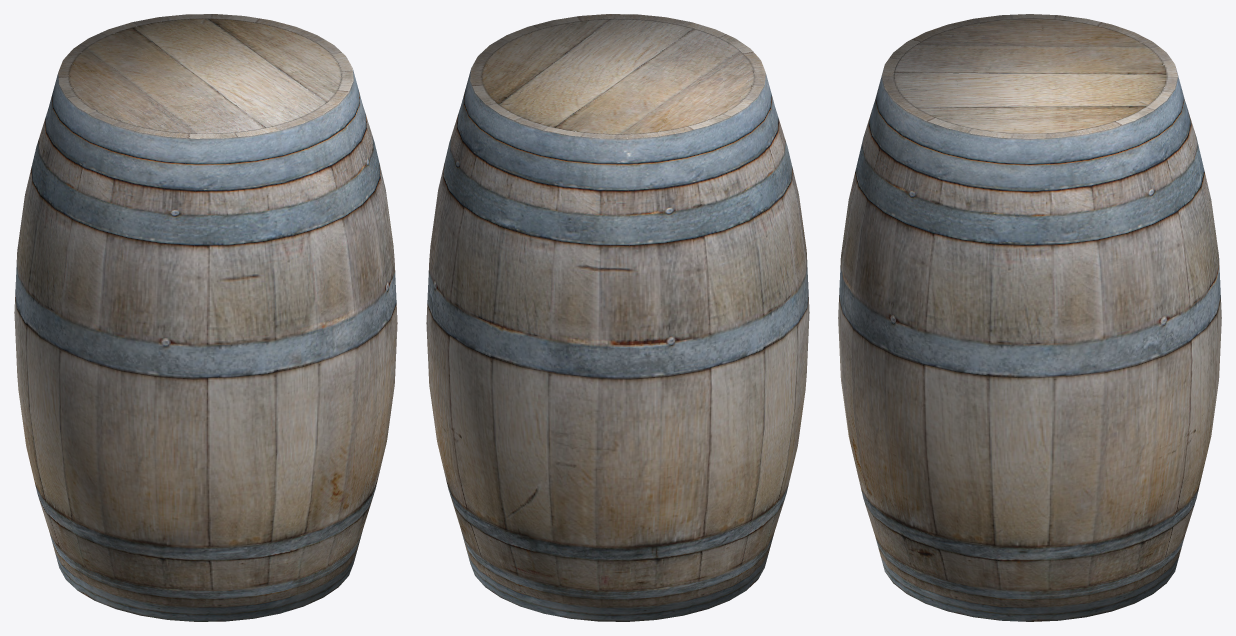
File: Fass.fbx
3 views of the same model, side by side, from view 1: azimuth 30°, elevation 25°; view 2: azimuth 150°, elevation 25°; view 3: azimuth 270°, elevation 25° (orthographic).
Parts seen in each view (by area): view 1: Cylinder; view 2: Cylinder; view 3: Cylinder.
Part boxes in pixels (x1,y1,x2,y2): Cylinder: (14, 14, 397, 621); Cylinder: (426, 14, 809, 621); Cylinder: (838, 14, 1221, 621).
Bounding box in the file's own units: 2.66 × 3.69 × 2.66.
